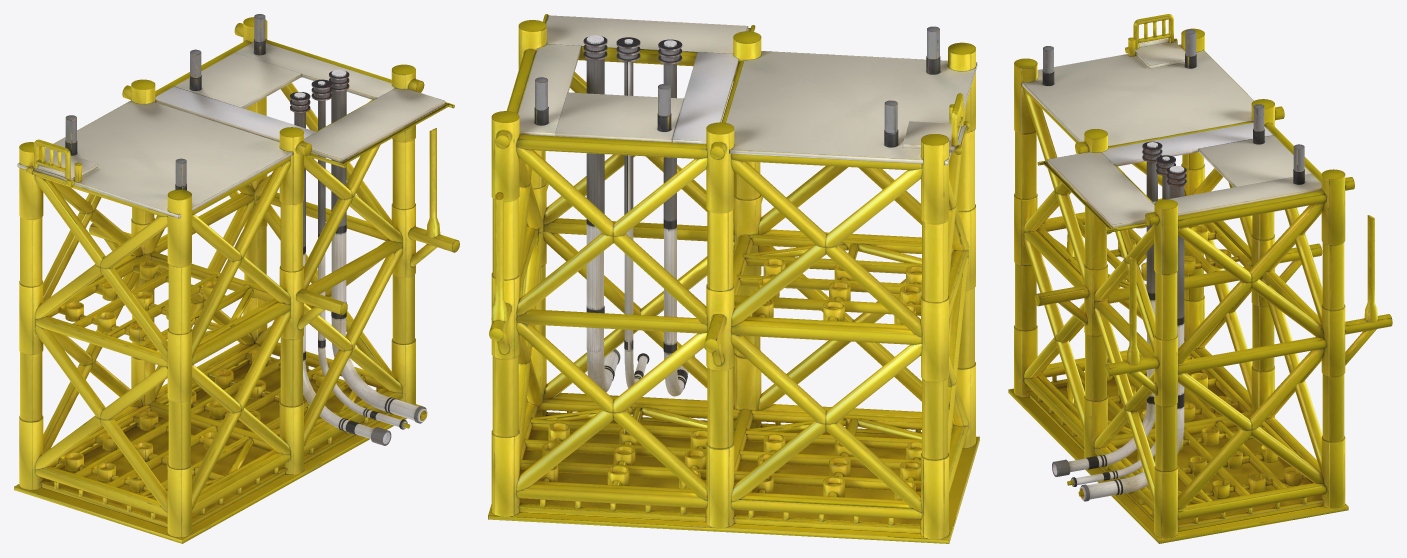
File: bp-jacket.glb
3 renders of one model, left to right at view 1: azimuth 30°, elevation 25°; view 2: azimuth 150°, elevation 25°; view 3: azimuth 270°, elevation 25°, orthographic. The views are drawn at different scales.
Visible parts, largest first — view 1: WHITE PIPE.001; view 2: WHITE PIPE.001; view 3: WHITE PIPE.001.
Boxes of the visible parts, x1,y1,x2,y2 form: WHITE PIPE.001: [14, 14, 459, 543]; WHITE PIPE.001: [488, 14, 979, 543]; WHITE PIPE.001: [1008, 14, 1392, 543].
Bounding box in the file's own units: 12.42 × 10.75 × 10.58.
Materials: 2 (2 with a texture image).
